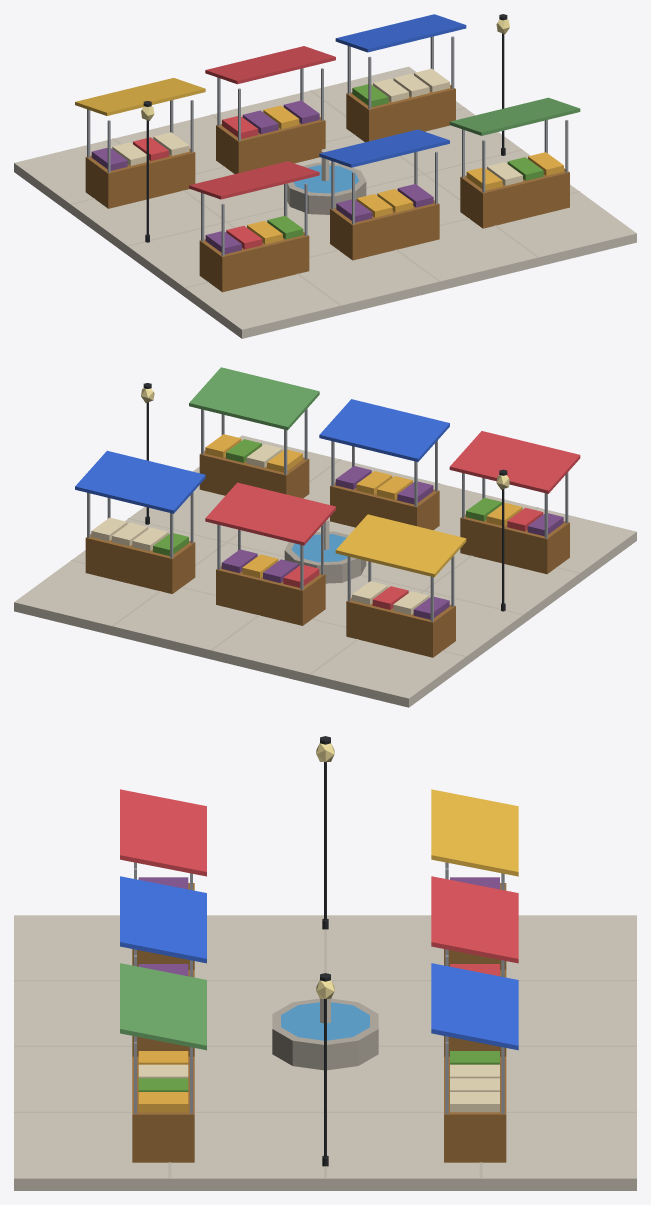
Rendered from Park_cim_pazar_Hafif.fbx.
The picture shows the model from 3 angles, top to bottom: view 1: azimuth 30°, elevation 25°; view 2: azimuth 150°, elevation 25°; view 3: azimuth 270°, elevation 25°; orthographic projection. The views are drawn at different scales.
Parts seen in each view (by area): view 1: Park_cim_pazar_Hafif; view 2: Park_cim_pazar_Hafif; view 3: Park_cim_pazar_Hafif.
Part boxes in pixels (x1=…): Park_cim_pazar_Hafif: x1=14, y1=14, x2=636, y2=338; Park_cim_pazar_Hafif: x1=14, y1=367, x2=636, y2=707; Park_cim_pazar_Hafif: x1=14, y1=736, x2=636, y2=1190.
Bounding box in the file's own units: 10 × 3.58 × 10.
